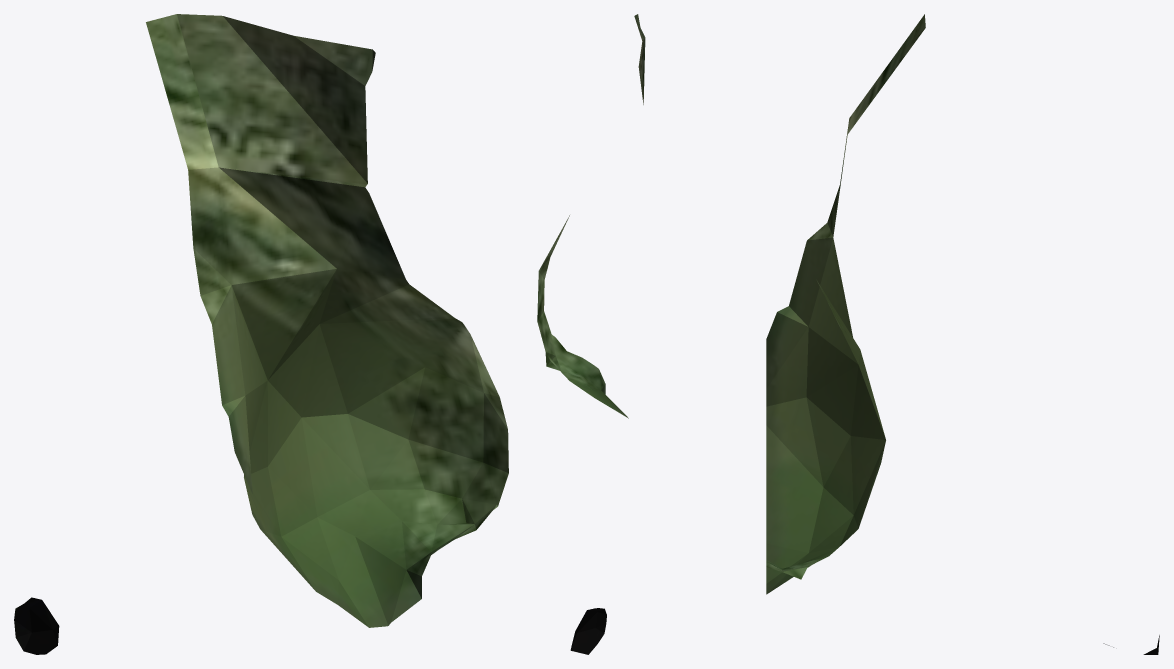
3 renders of one model, left to right at view 1: azimuth 30°, elevation 25°; view 2: azimuth 150°, elevation 25°; view 3: azimuth 270°, elevation 25°, orthographic. The views are drawn at different scales.
Bounding box in the file's own units: 3.54 × 8.87 × 4.94.
1 material, 1 textured.
